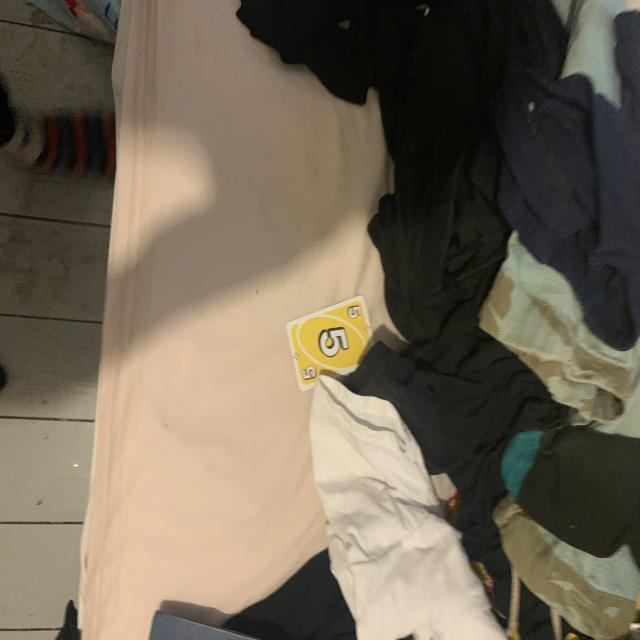lyellow-5: (344, 303, 364, 323)
